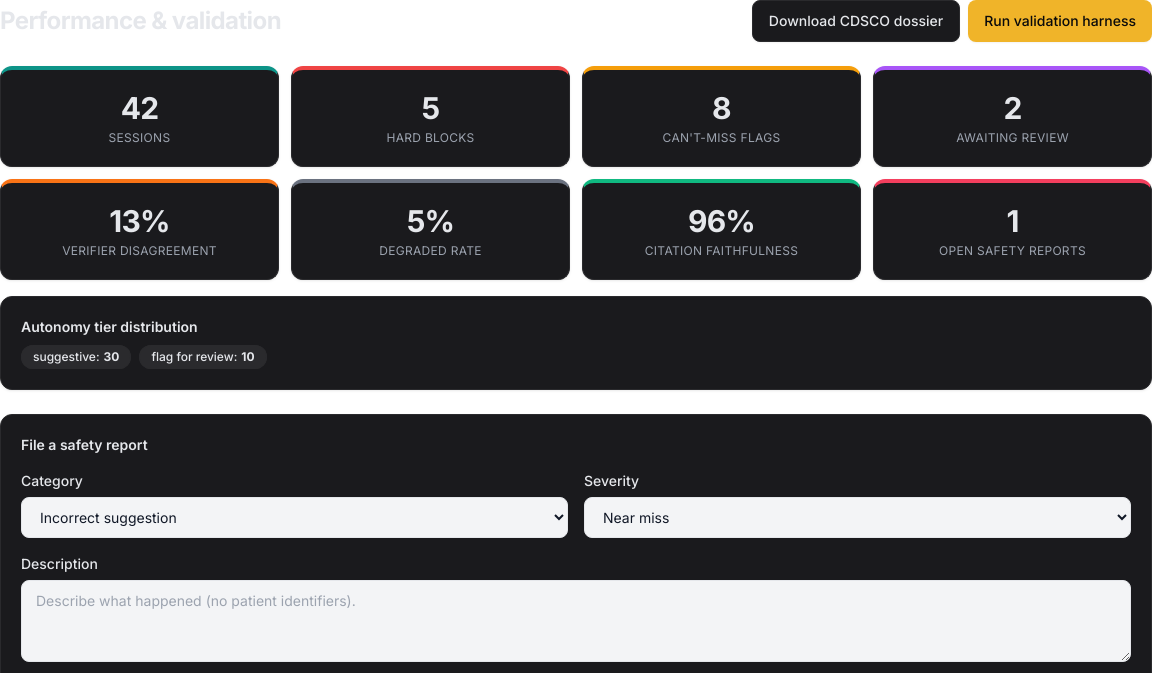
Test case: MetricsPage › runs the validation harness, shows its metrics, and refreshes the dashboard
The image size is (1152, 673).
Check: the text "42" is shown, box [121, 90, 158, 126]
Click the button "Run validation harness" at (1060, 21), box [968, 0, 1151, 42]
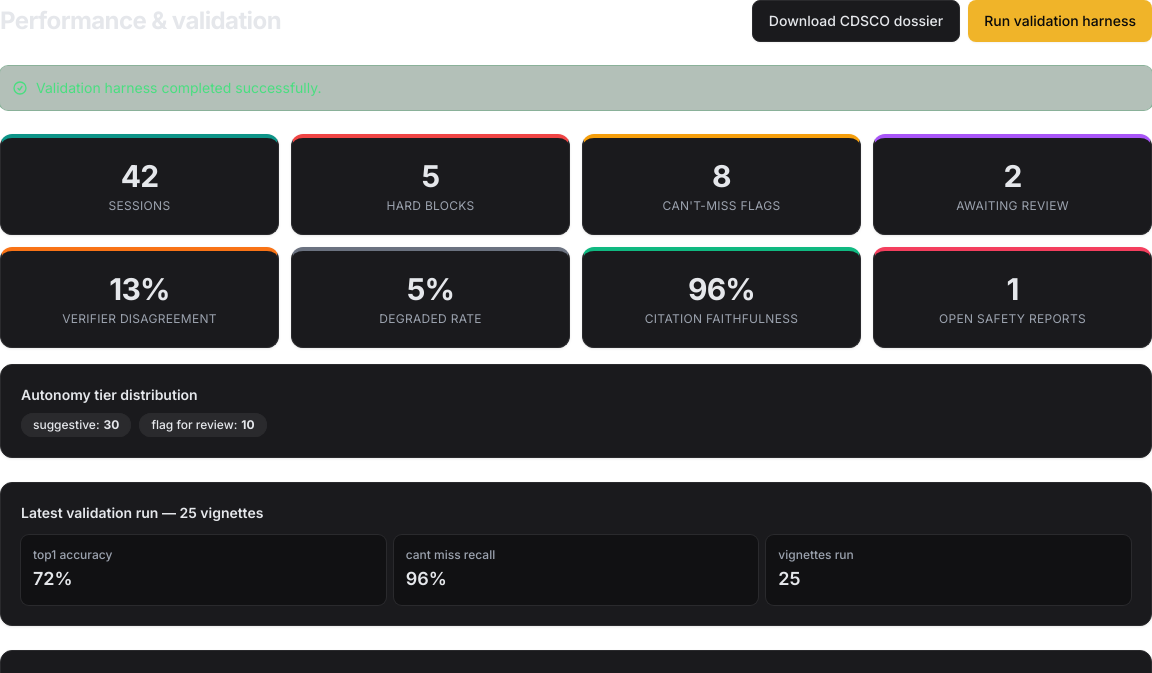
Check: the text "Latest validation run — 25 vignettes" is shown, box [21, 504, 263, 521]
Check: the text "72%" is shown, box [33, 568, 73, 589]
Check: the text "25" is shown, box [778, 568, 801, 589]
